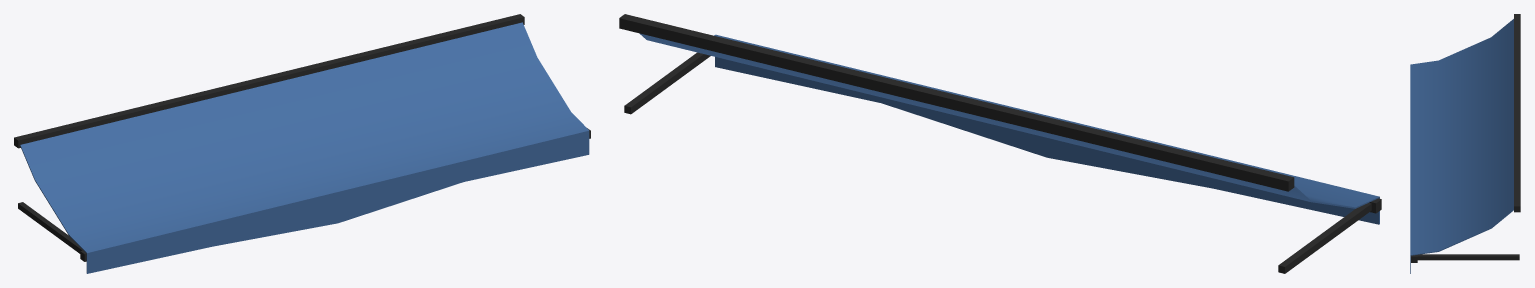
Rendered from SM_Buildings_Roof_06.fbx.
3 renders of one model, left to right at view 1: azimuth 30°, elevation 25°; view 2: azimuth 150°, elevation 25°; view 3: azimuth 270°, elevation 25°, orthographic. The views are drawn at different scales.
Visible parts, largest first — view 1: SM_Buildings_Roof_06; view 2: SM_Buildings_Roof_06; view 3: SM_Buildings_Roof_06.
Boxes of the visible parts, x1,y1,x2,y2 form: SM_Buildings_Roof_06: (14, 14, 590, 273); SM_Buildings_Roof_06: (619, 14, 1381, 273); SM_Buildings_Roof_06: (1410, 14, 1520, 273).
Bounding box in the file's own units: 500 × 90.08 × 122.
